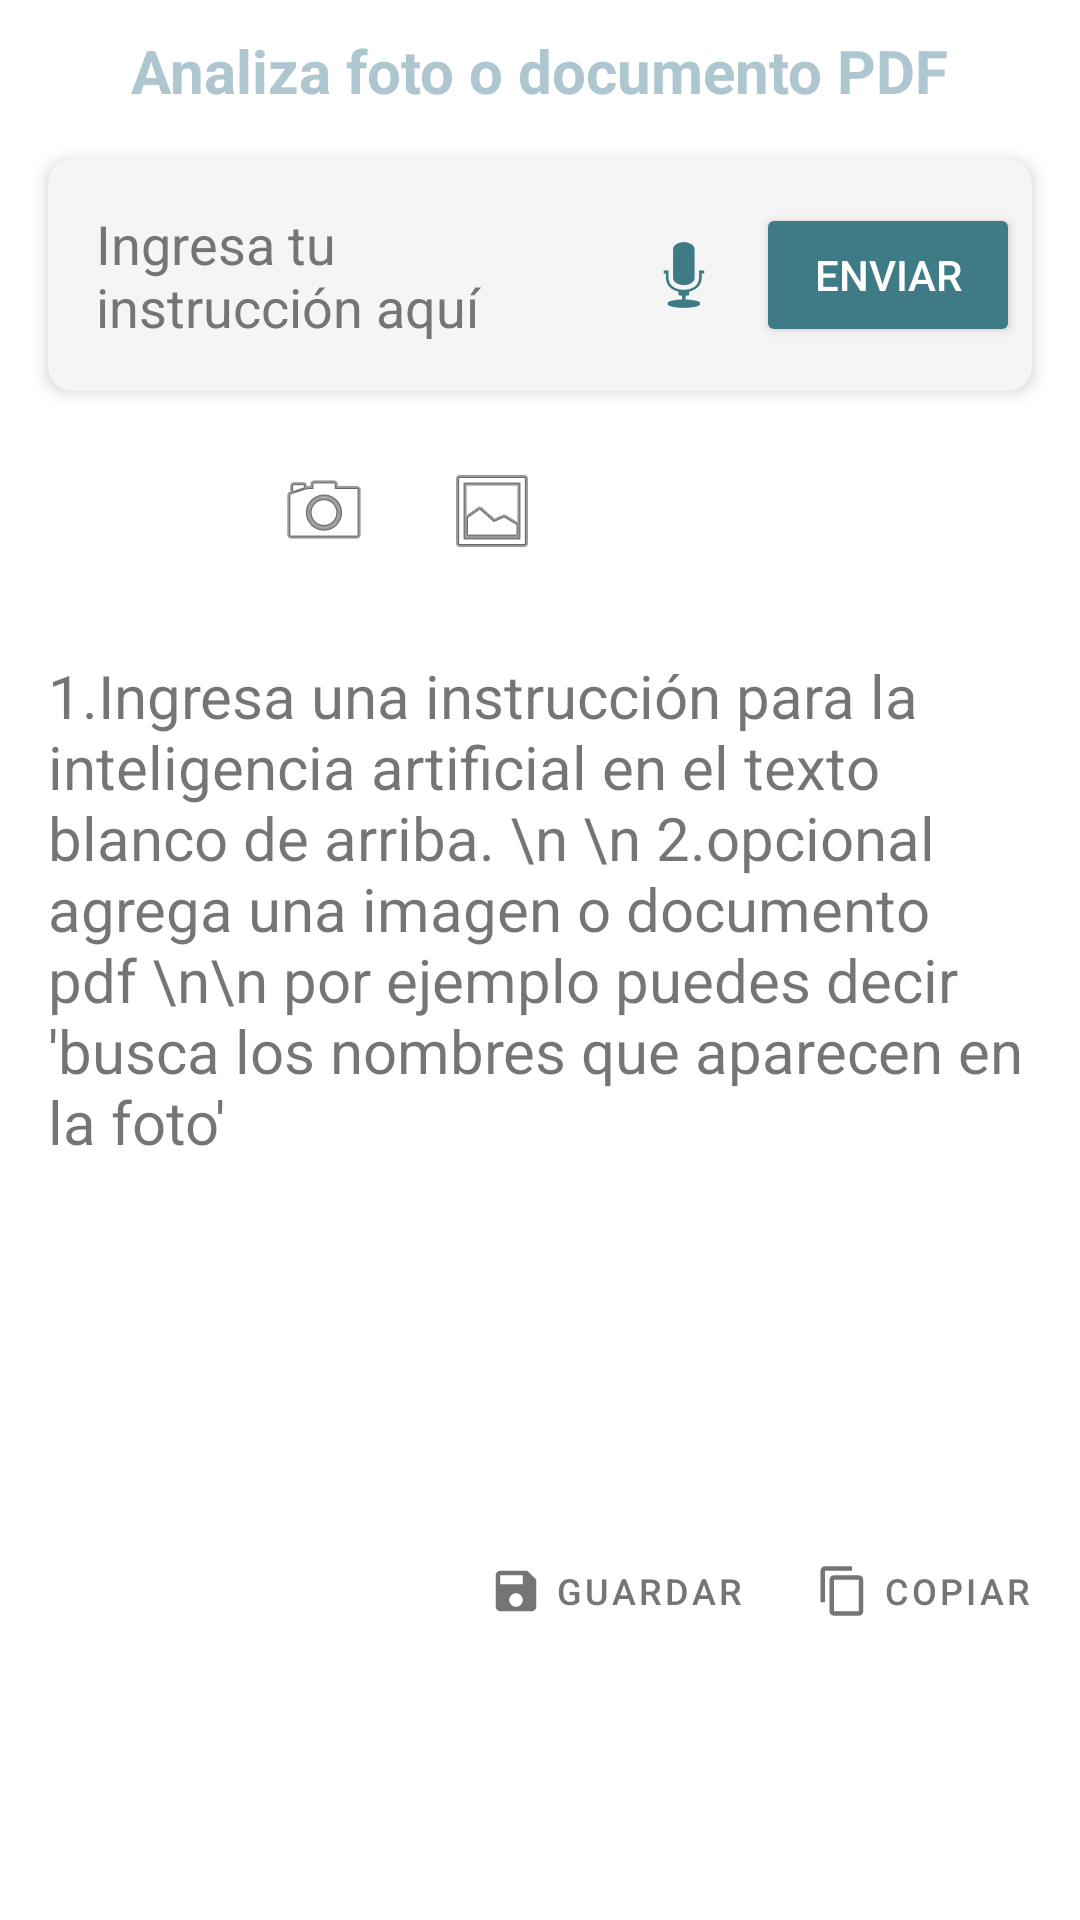

Point at icon controls on the screen. Image size 1080 × 1920, points as [x,y].
Abrir galería: [492,511]
Dictado por voz: [684,275]
Tomar foto: [324,509]
